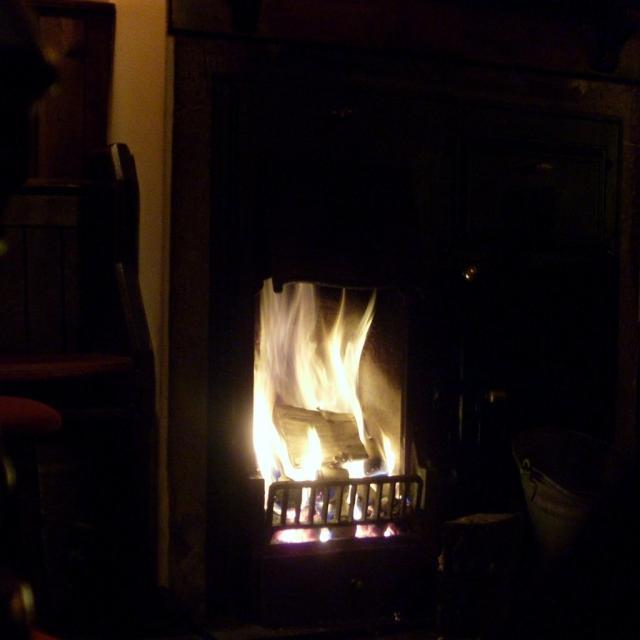Fire: (250, 274, 411, 546)
